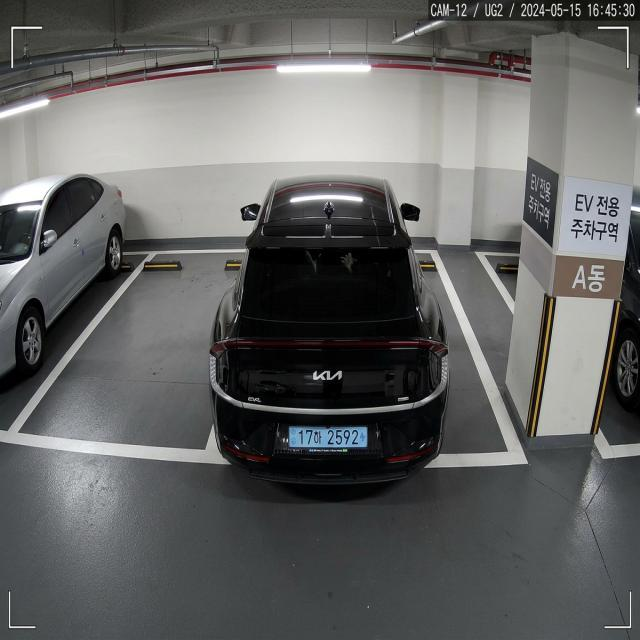car: (277, 410, 385, 470)
carev: (354, 426, 369, 451), (289, 422, 300, 452)
